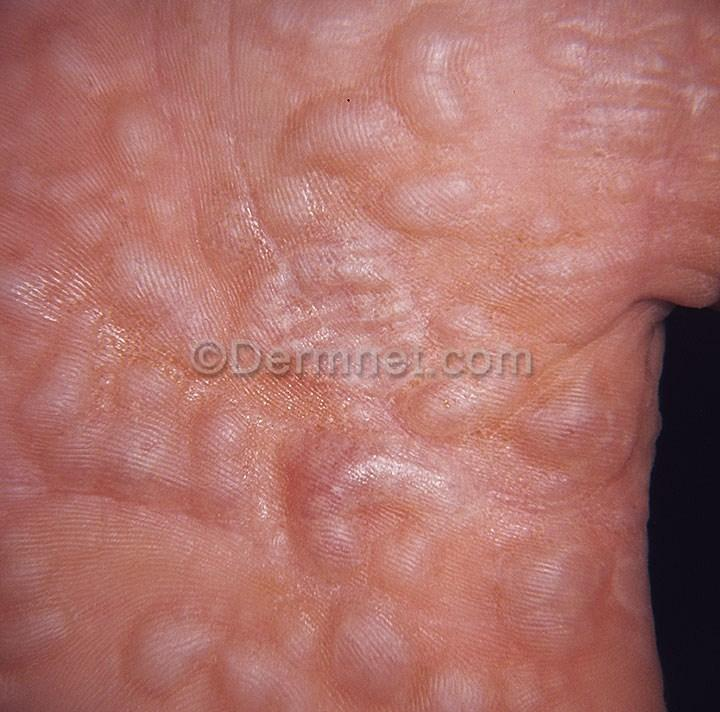Eczema: (21, 360, 230, 514), (285, 399, 452, 568), (475, 516, 643, 656), (240, 254, 428, 360), (512, 185, 720, 279), (273, 589, 425, 701), (524, 344, 665, 461), (182, 379, 265, 543), (385, 12, 483, 132), (9, 138, 123, 241), (19, 8, 128, 114), (549, 86, 681, 171), (450, 428, 568, 516), (115, 588, 216, 686), (282, 85, 393, 174), (0, 255, 85, 366), (190, 624, 310, 701), (238, 166, 348, 249), (398, 650, 555, 708), (0, 535, 80, 648), (243, 0, 385, 63), (91, 226, 179, 326), (381, 154, 469, 245), (383, 353, 479, 436), (423, 280, 500, 380), (182, 0, 254, 106), (611, 0, 684, 102), (183, 186, 268, 273), (106, 109, 204, 178), (521, 0, 603, 76), (676, 0, 710, 131)
